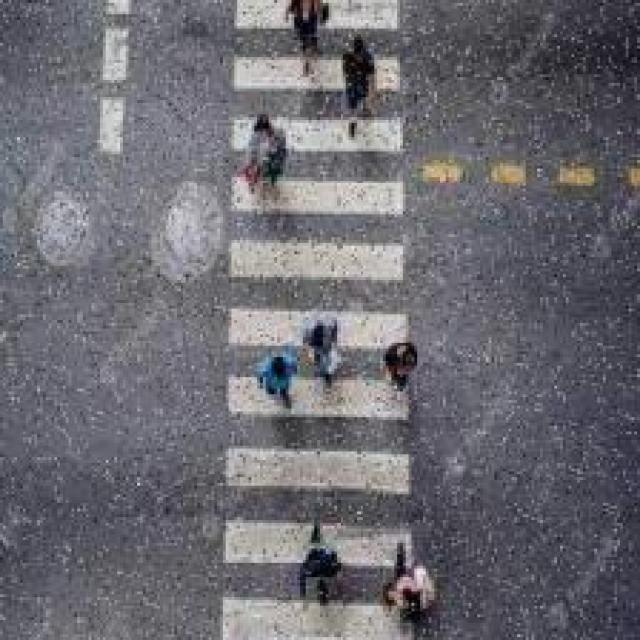crosswalk: (218, 0, 420, 640)
